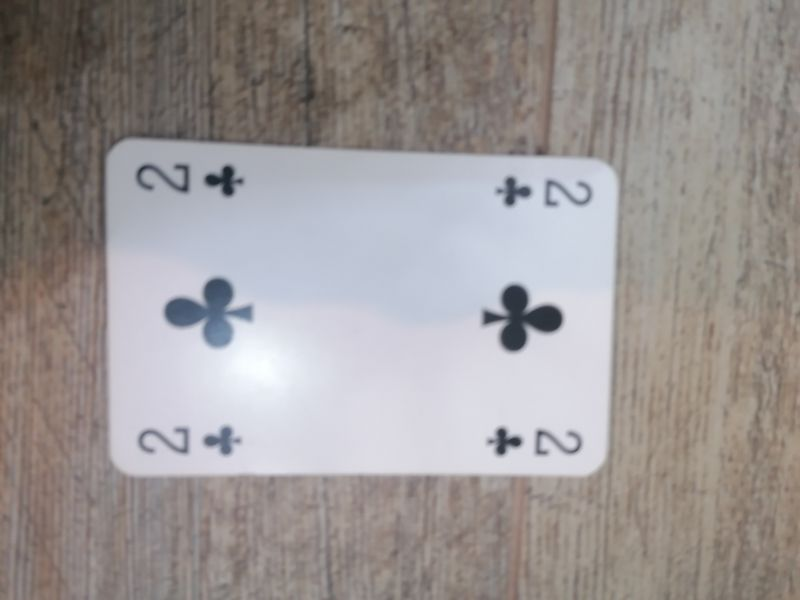2c: (130, 158, 250, 202), (490, 171, 595, 213), (130, 421, 246, 458), (485, 423, 588, 462)
